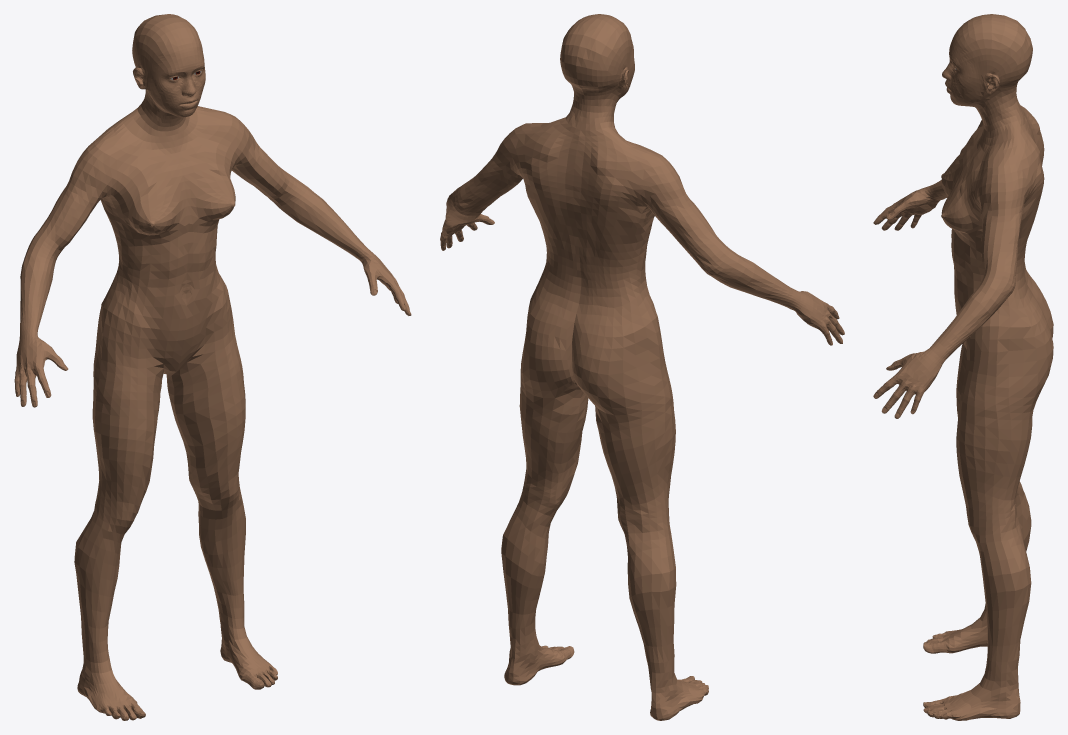
File: woman.obj
The picture shows the model from 3 angles, left to right: view 1: azimuth 30°, elevation 25°; view 2: azimuth 150°, elevation 25°; view 3: azimuth 270°, elevation 25°; orthographic projection.
Visible parts, largest first — view 1: base.obj; view 2: base.obj; view 3: base.obj.
Part boxes in pixels (bbox=[...]): base.obj: bbox=[14, 14, 411, 720]; base.obj: bbox=[440, 14, 844, 720]; base.obj: bbox=[873, 14, 1053, 720].
Size of the model in its own units: 0.9718 by 1.59 by 0.3901.
Materials: 2 (1 with a texture image).
